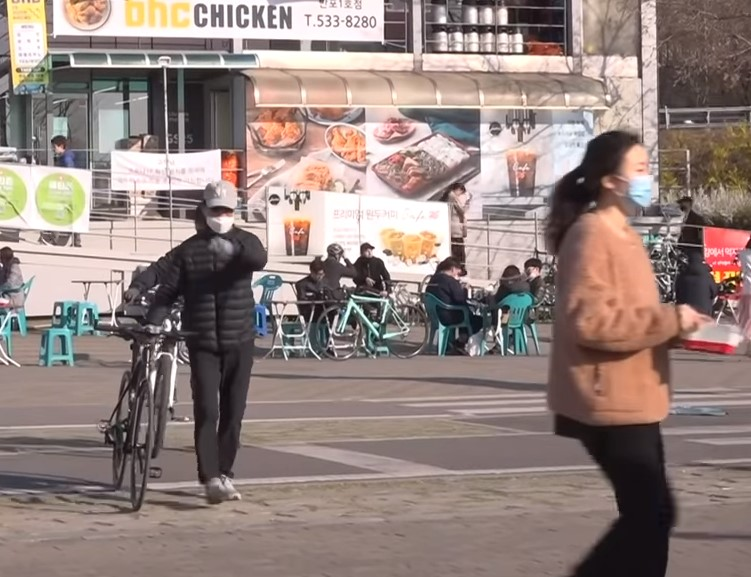face_with_mask: (588, 134, 655, 212), (197, 178, 240, 239)
